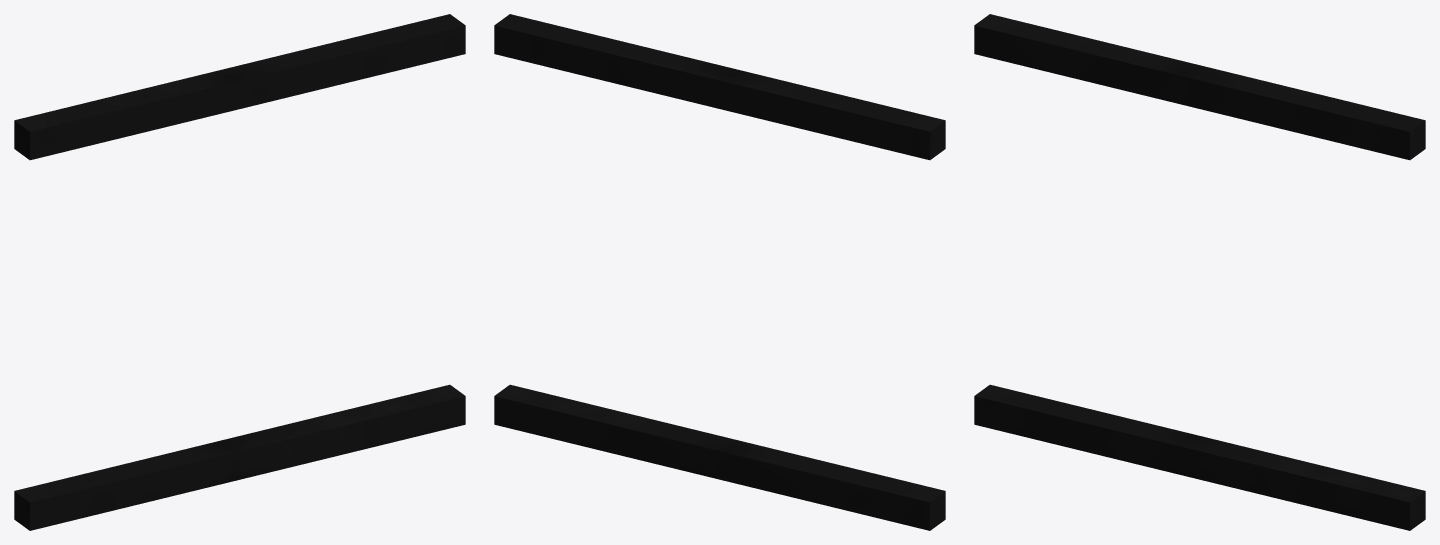
The model's file is mvp_ir_elfrail.obj.
3 renders of one model, left to right at view 1: azimuth 30°, elevation 25°; view 2: azimuth 150°, elevation 25°; view 3: azimuth 330°, elevation 25°, orthographic.
Visible parts, largest first — view 1: RAIL_LEFT_elfwire, RAIL_RIGHT_elfwire; view 2: RAIL_LEFT_elfwire, RAIL_RIGHT_elfwire; view 3: RAIL_LEFT_elfwire, RAIL_RIGHT_elfwire.
Boxes of the visible parts, box(x1,y1,x2,y2) form: RAIL_LEFT_elfwire: box(14, 14, 465, 160); RAIL_RIGHT_elfwire: box(14, 384, 465, 530); RAIL_LEFT_elfwire: box(494, 14, 945, 160); RAIL_RIGHT_elfwire: box(494, 384, 945, 530); RAIL_LEFT_elfwire: box(974, 14, 1425, 160); RAIL_RIGHT_elfwire: box(974, 384, 1425, 530).
Size of the model in its own units: 1 by 0.875 by 0.0625.
1 material, 1 textured.
